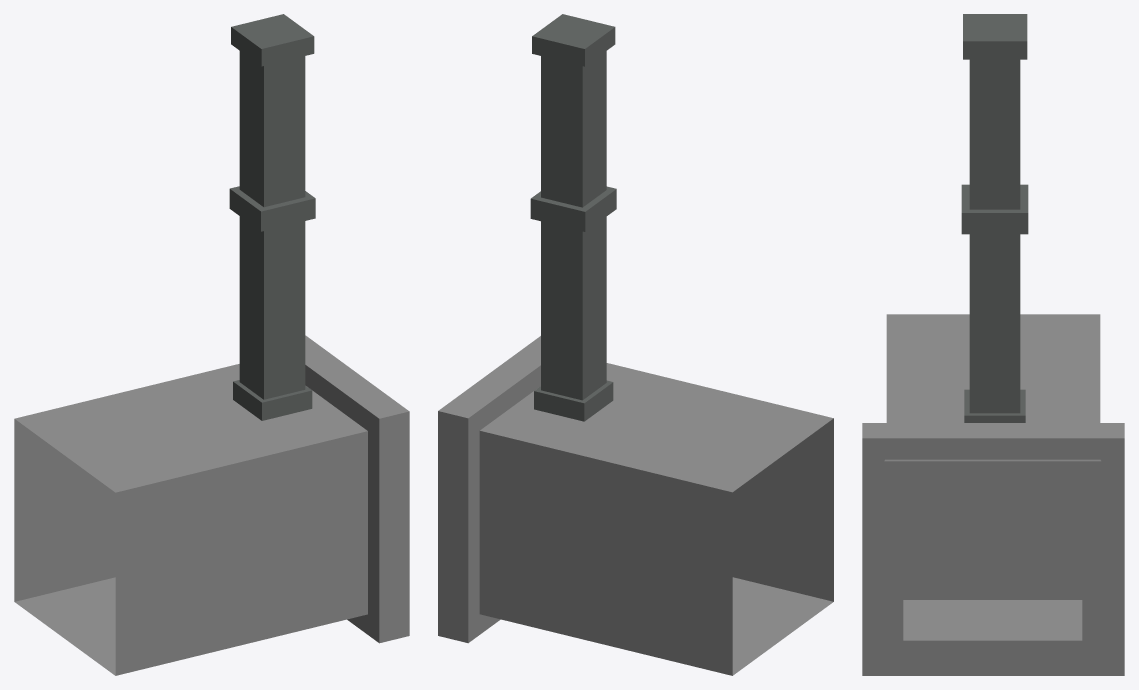
File: SmallVent.fbx
3 renders of one model, left to right at view 1: azimuth 30°, elevation 25°; view 2: azimuth 150°, elevation 25°; view 3: azimuth 270°, elevation 25°, orthographic. The views are drawn at different scales.
Parts seen in each view (by area): view 1: Cube.003; view 2: Cube.003; view 3: Cube.003.
Boxes of the visible parts, x1,y1,x2,y2 form: Cube.003: (14, 14, 409, 675); Cube.003: (438, 14, 833, 675); Cube.003: (862, 14, 1124, 675).
Size of the model in its own units: 483 by 927 by 361.
